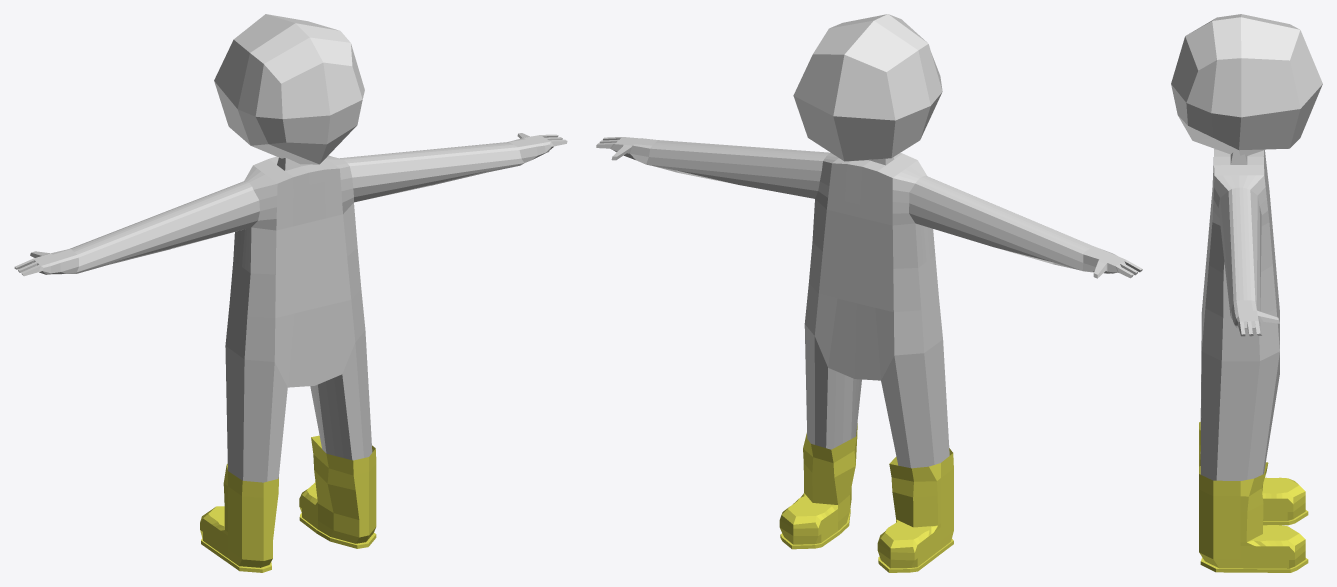
File: human.glb
3 views of the same model, side by side, from view 1: azimuth 30°, elevation 25°; view 2: azimuth 150°, elevation 25°; view 3: azimuth 270°, elevation 25° (orthographic).
Parts seen in each view (by area): view 1: Cube, Cube.002, Cube.001; view 2: Cube, Cube.002, Cube.001; view 3: Cube, Cube.002, Cube.001.
Boxes of the visible parts, bbox=[...] form: Cube: bbox=[14, 133, 567, 482]; Cube.002: bbox=[214, 14, 364, 164]; Cube.001: bbox=[200, 435, 376, 572]; Cube: bbox=[596, 137, 1142, 468]; Cube.002: bbox=[793, 14, 942, 161]; Cube.001: bbox=[779, 423, 953, 572]; Cube: bbox=[1200, 148, 1279, 480]; Cube.002: bbox=[1171, 14, 1322, 155]; Cube.001: bbox=[1199, 422, 1308, 572].
Bounding box in the file's own units: 6.79 × 6.22 × 1.64.
